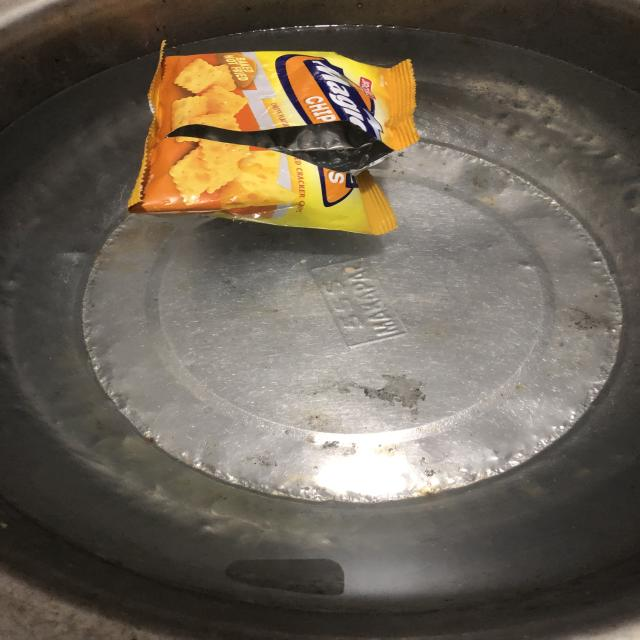Plastic Wrapper: (89, 27, 449, 251)
